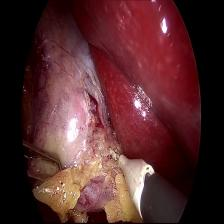Grasper: (22, 138, 66, 192)
Hook: (108, 146, 155, 206)
